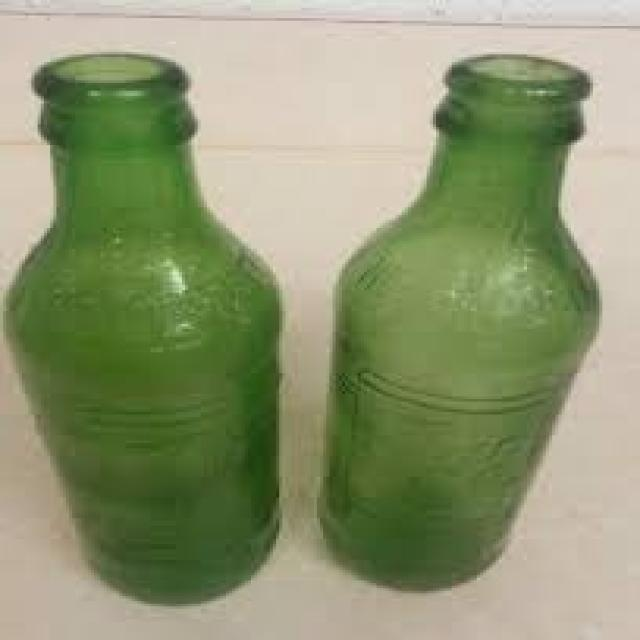glass: (314, 52, 596, 591), (3, 52, 276, 604)
